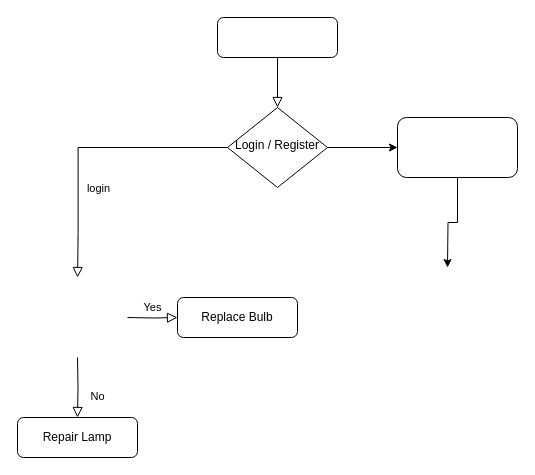
Image size: 535x475. Some labels were removed from this diagram. The shapes that lost their labels are listed below. From the top down, each one's centre as x and y in pixels, then its label:
point (277, 37): RAKT
point (457, 147): Register
